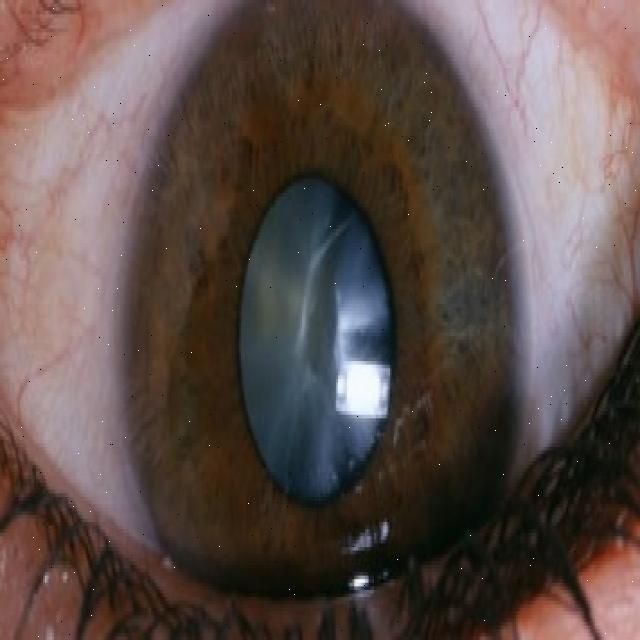Cataract: (124, 0, 518, 638)
